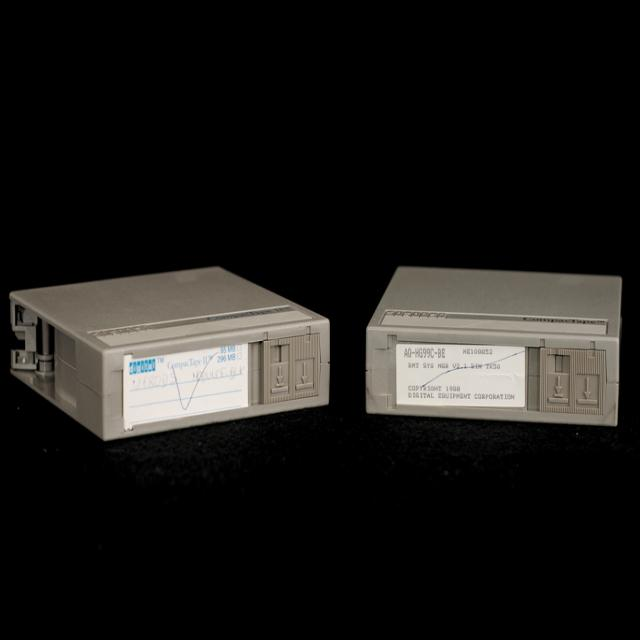Box: (385, 282, 611, 432)
